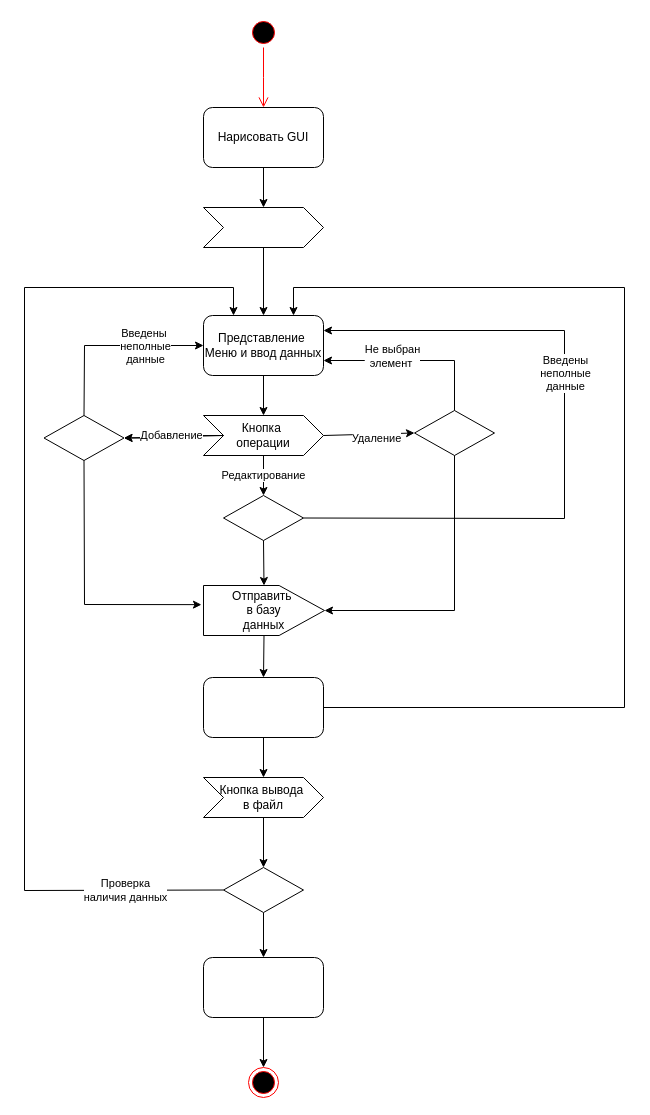
Some shapes in this 650 by 1115 pixel diagram are drawn without their labels. The box of each missing label's shape, as (x1, y1, x2, y2) in pixels:
Выбор меню: (202, 206, 324, 248)
Обновление представления данных: (202, 676, 324, 738)
Файл с информацией: (202, 956, 324, 1018)
